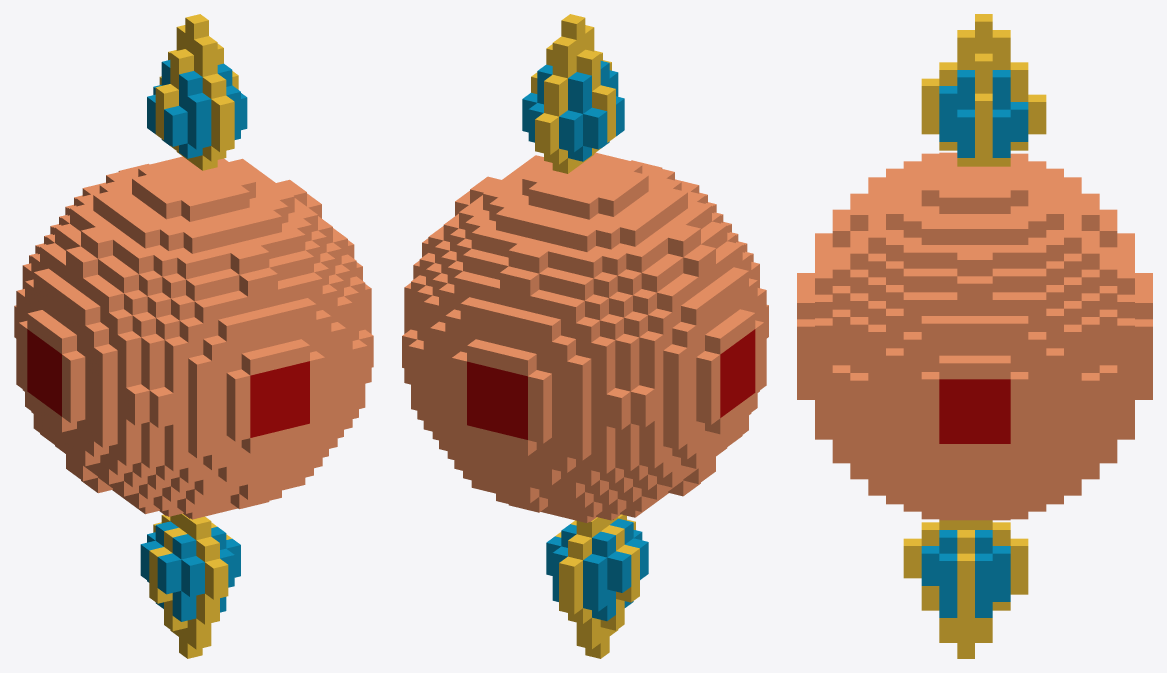
The model's file is rotate.obj.
3 views of the same model, side by side, from view 1: azimuth 30°, elevation 25°; view 2: azimuth 150°, elevation 25°; view 3: azimuth 270°, elevation 25° (orthographic). The views are drawn at different scales.
Bounding box in the file's own units: 2 × 4 × 2.
Materials: 1 (1 with a texture image).
